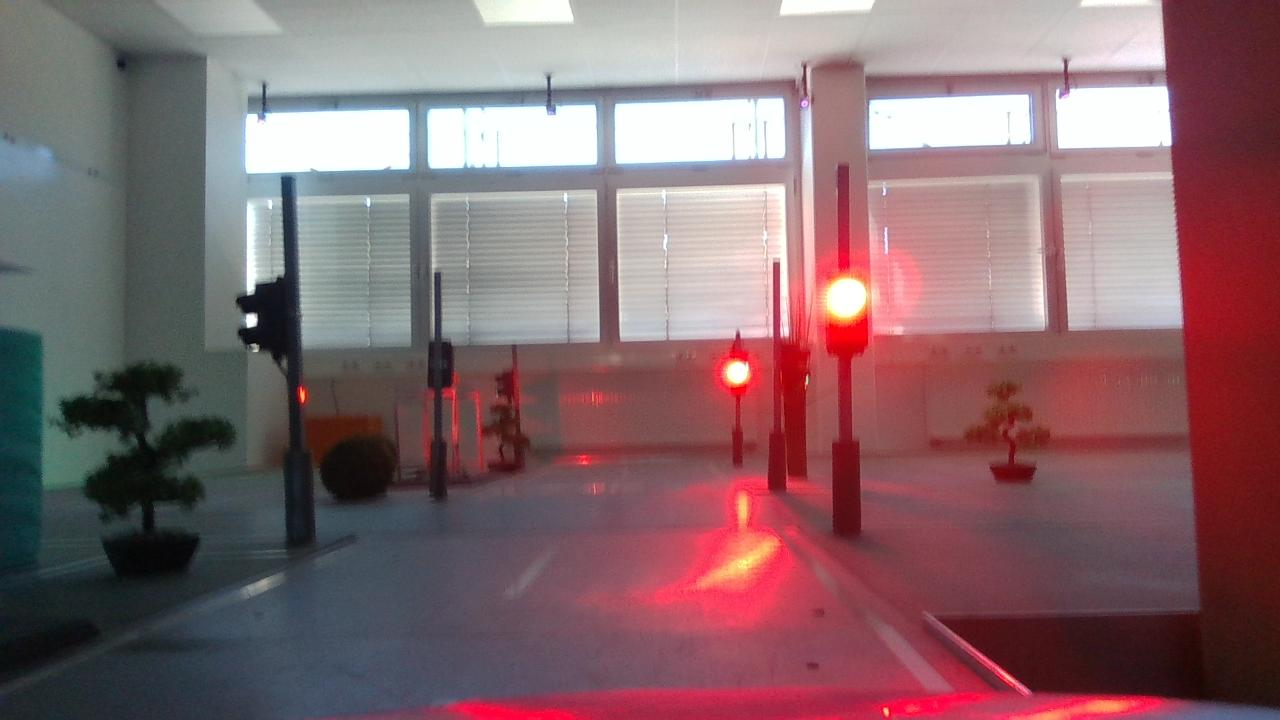traffic_light_red: (808, 272, 881, 369)
